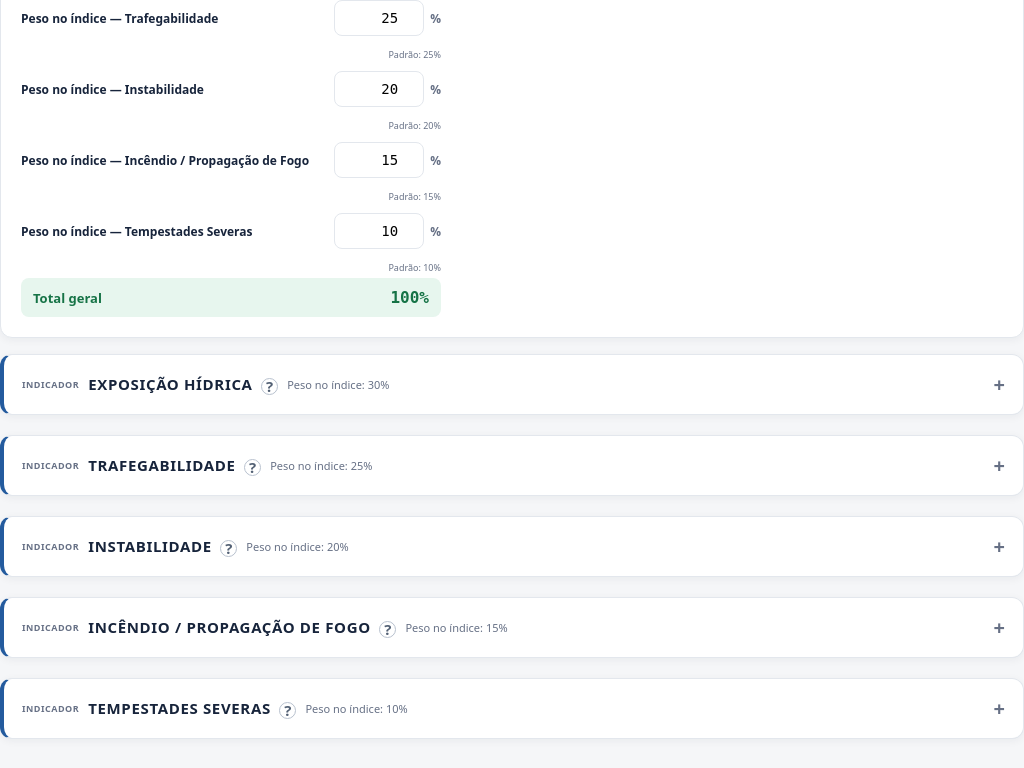
tela Riscos e Score › exibe os parâmetros internos da Exposição Hídrica com total interno
(page scrolled)
Step 1. Click the heading "Exposição Hídrica" → (183, 385), box [88,374,278,395]
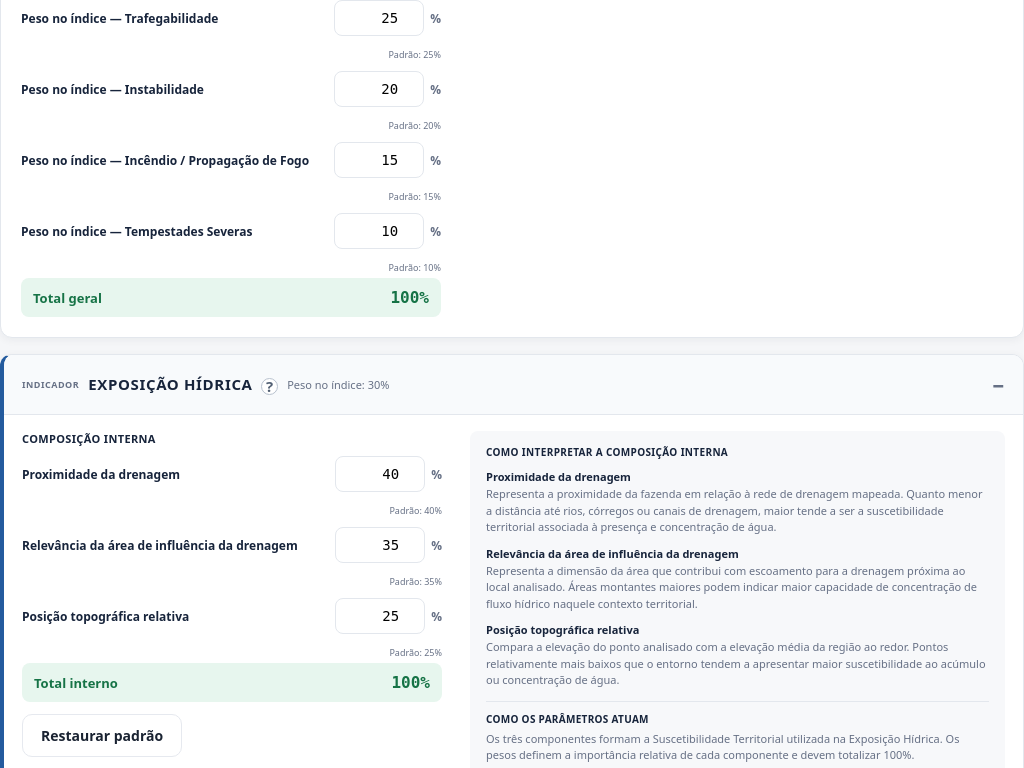
Check: the number field labelled "Proximidade da drenagem" holds "40", box [335,456,425,492]
Check: the number field labelled "Relevância da área de influência da drenagem" holds "35", box [335,527,425,563]
Check: the number field labelled "Posição topográfica relativa" holds "25", box [335,598,425,634]
